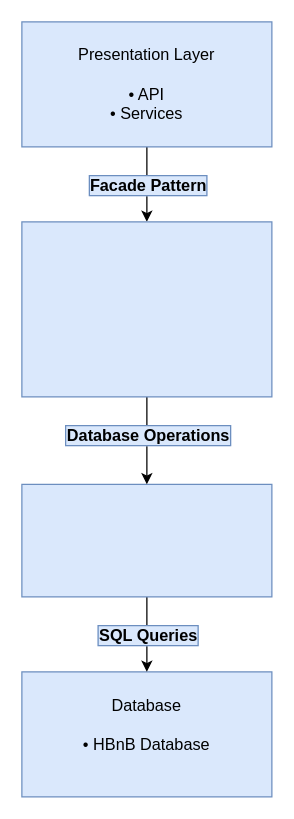
Image size: 294x819. Some labels were removed from this diagram. Each missing label, with the box of its shape:
Business Logic Layer • Facade Service • User • Place • Review • Amenity: (21, 221, 272, 397)
Persistence Layer • Repositories • Database Access: (21, 483, 272, 597)
